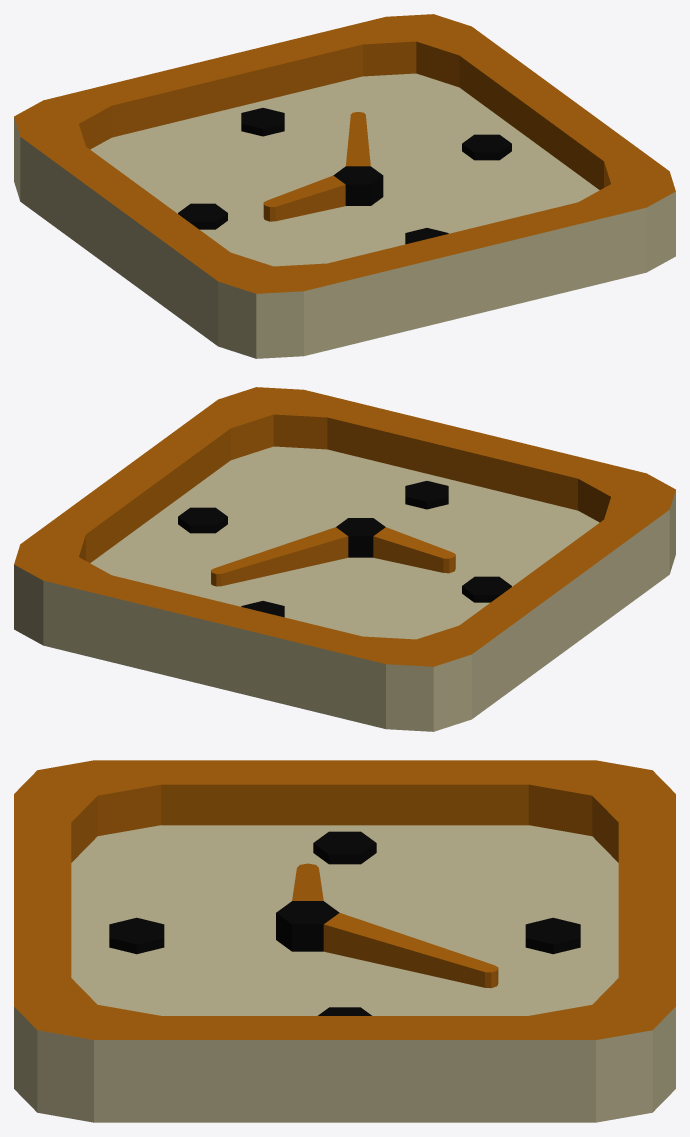
Rendered from Stone_Jam_01a.fbx.
3 views of the same model, one above another, from view 1: azimuth 30°, elevation 25°; view 2: azimuth 150°, elevation 25°; view 3: azimuth 270°, elevation 25° (orthographic). The views are drawn at different scales.
Visible parts, largest first — view 1: Frame Jam, Menit Deik, Angka Jam; view 2: Frame Jam, Menit Deik, Angka Jam; view 3: Frame Jam, Menit Deik, Angka Jam.
Boxes of the visible parts, x1,y1,x2,y2 form: Frame Jam: [14, 14, 675, 358]; Menit Deik: [263, 112, 383, 221]; Angka Jam: [178, 108, 511, 244]; Frame Jam: [14, 387, 675, 731]; Menit Deik: [211, 518, 455, 586]; Angka Jam: [178, 481, 511, 617]; Frame Jam: [14, 760, 675, 1122]; Menit Deik: [276, 863, 498, 988]; Angka Jam: [109, 831, 580, 1015].
Bounding box in the file's own units: 99.94 × 13.75 × 99.94.
